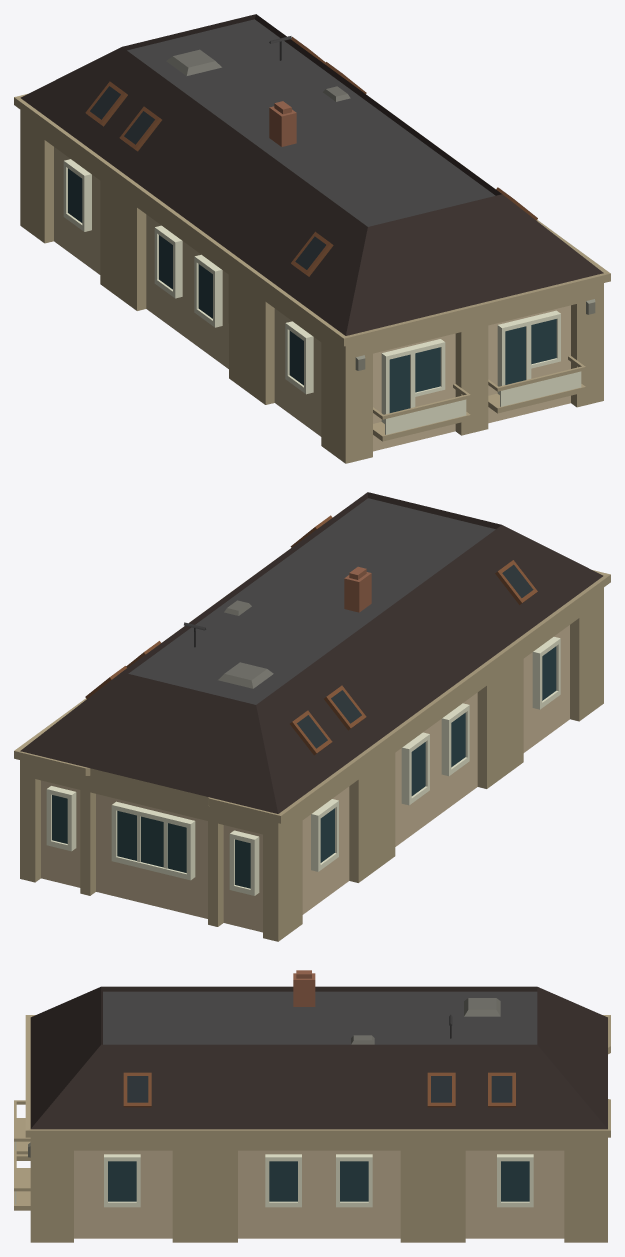
Rendered from apartment_building1_top.fbx.
3 renders of one model, top to bottom at view 1: azimuth 30°, elevation 25°; view 2: azimuth 150°, elevation 25°; view 3: azimuth 270°, elevation 25°, orthographic. The views are drawn at different scales.
Parts seen in each view (by area): view 1: apartment_building1_top; view 2: apartment_building1_top; view 3: apartment_building1_top.
Boxes of the visible parts, bbox=[...] form: apartment_building1_top: bbox=[14, 14, 610, 463]; apartment_building1_top: bbox=[14, 492, 610, 941]; apartment_building1_top: bbox=[14, 970, 610, 1242].
Bounding box in the file's own units: 579 × 463 × 1264.
